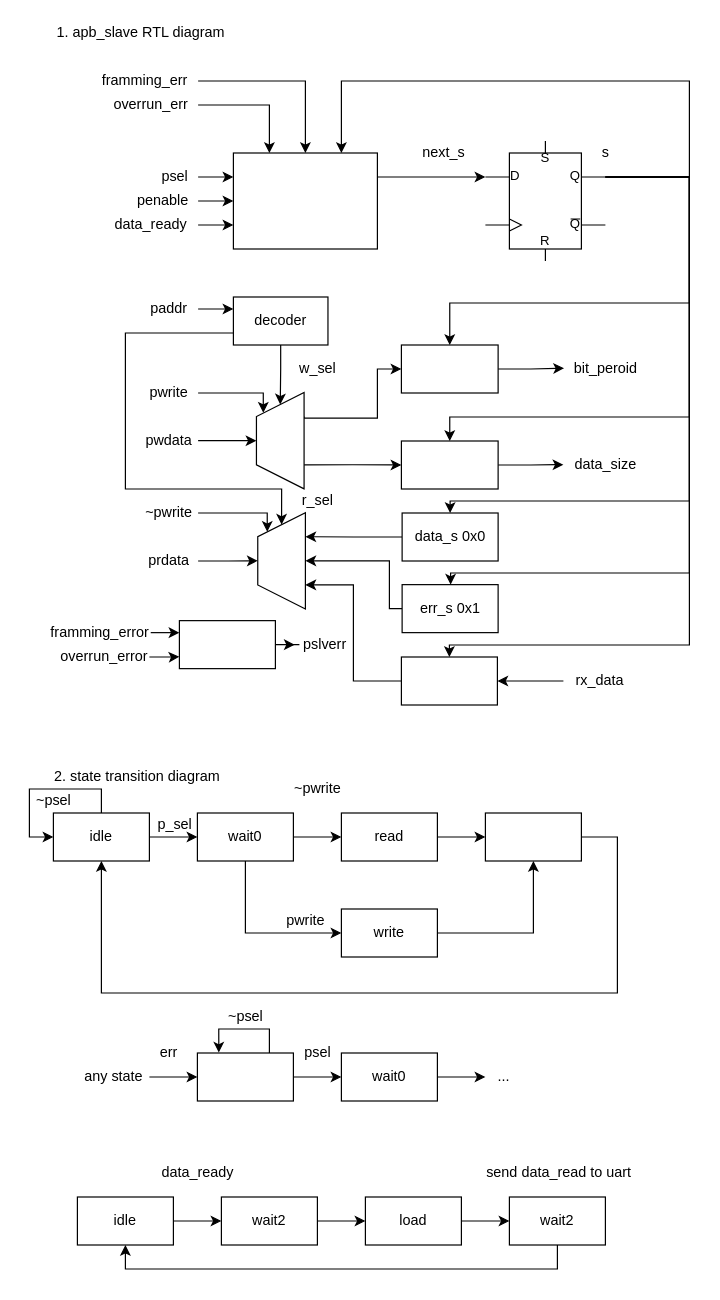
This 720x1300 diagram has some shape labels left out. The shapes that lost their labels are listed below. From the top down, each one's centre as x and y in pixels, then its label:
At point 304,200: "next state logic always_comb".
At point 449,368: "bit_peroid 0x2".
At point 449,464: "data_size 0x4".
At point 226,644: "OR".
At point 448,680: "buffer 0x6".
At point 532,836: "wait1".
At point 244,1076: "err_idle".
